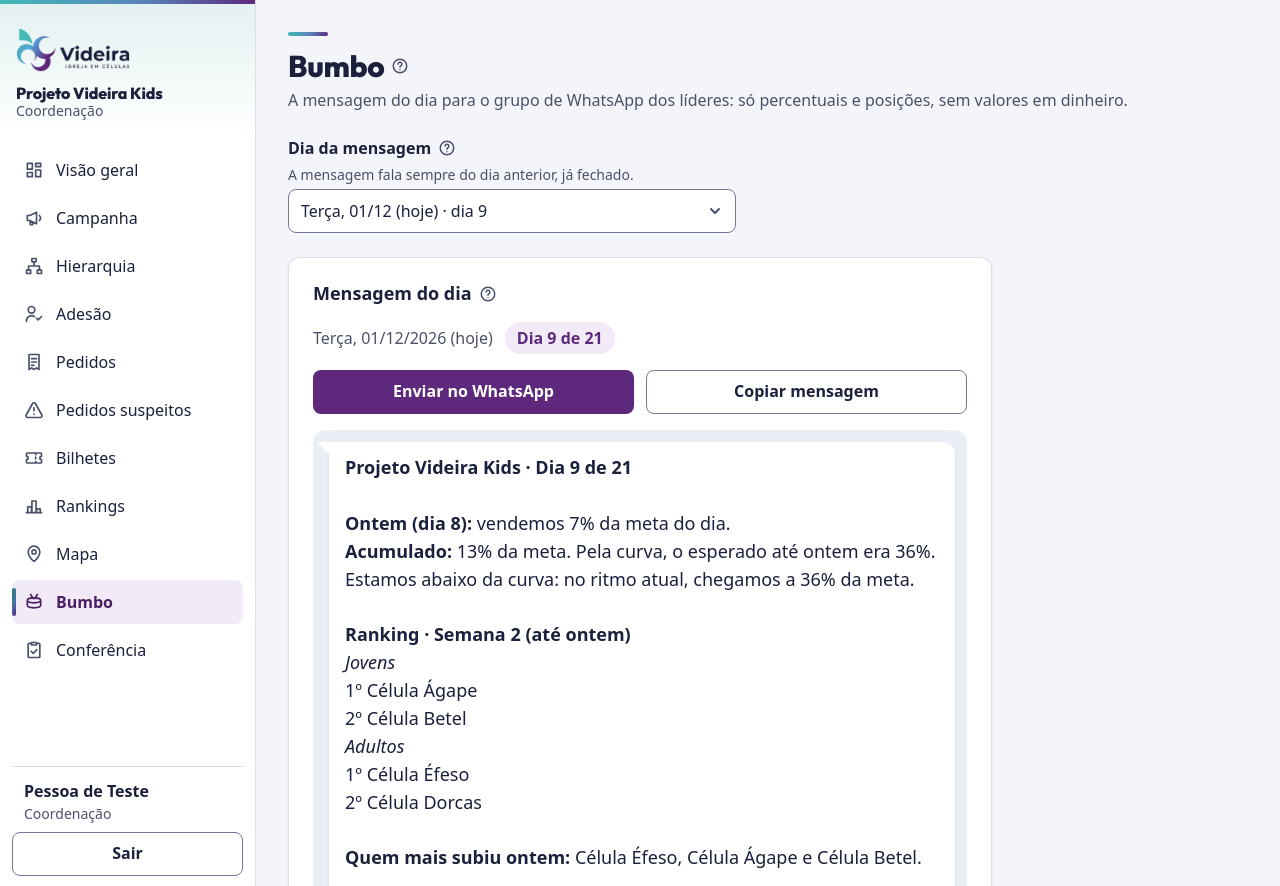
Test case: CA1: copiar e enviar › Copiar mensagem: o texto exato vai para a área de transferência, com a confirmação na tela e o anúncio
Click the button "Copiar mensagem" at (806, 392), box [646, 370, 967, 414]
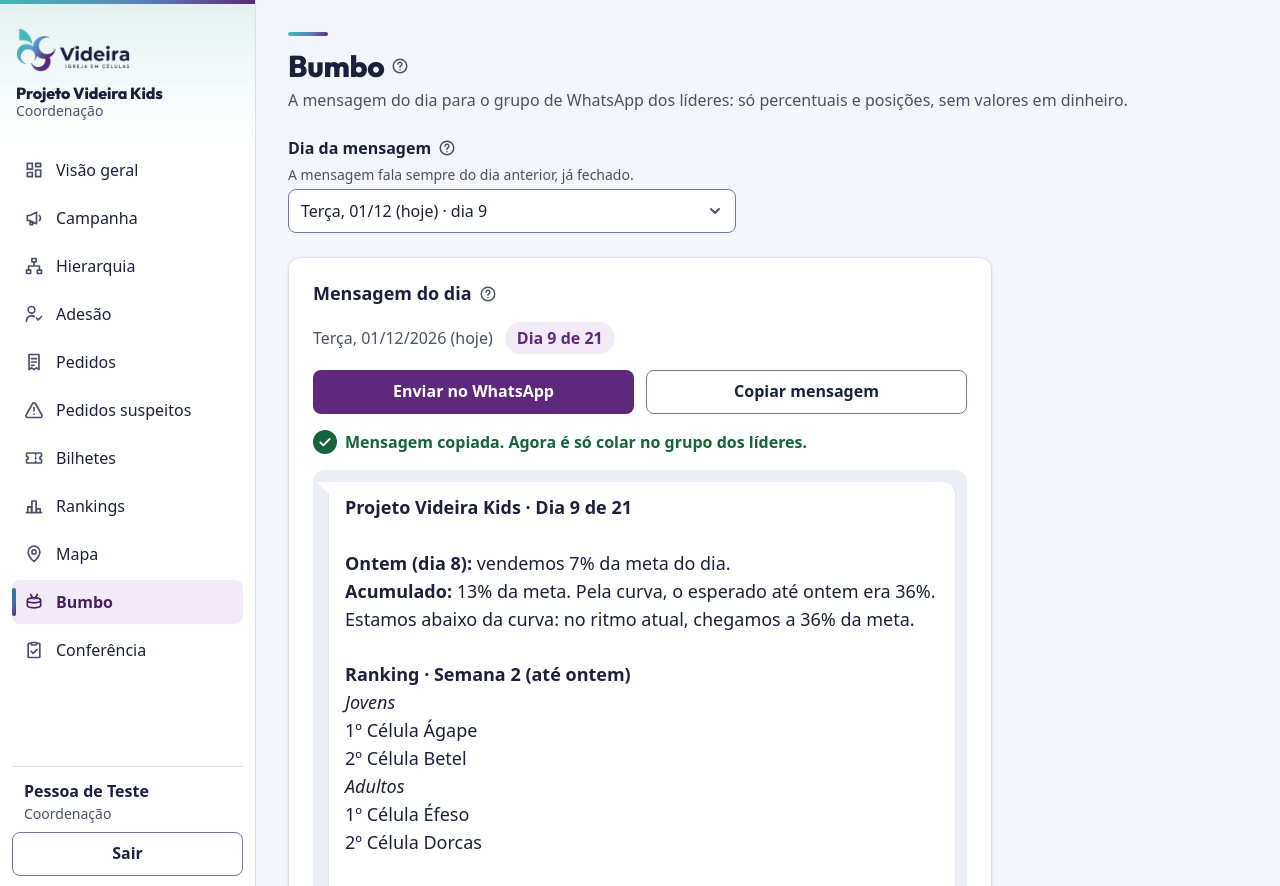
Now the element with class "bumbo__copia" reads "Mensagem copiada. Agora é só colar no grupo dos líderes.", box [345, 431, 807, 453]
